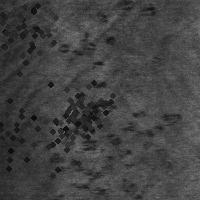rolled-in_scale: (44, 110, 184, 198), (27, 72, 123, 168), (0, 75, 70, 187), (57, 22, 122, 134), (0, 0, 76, 84), (58, 83, 112, 137)
